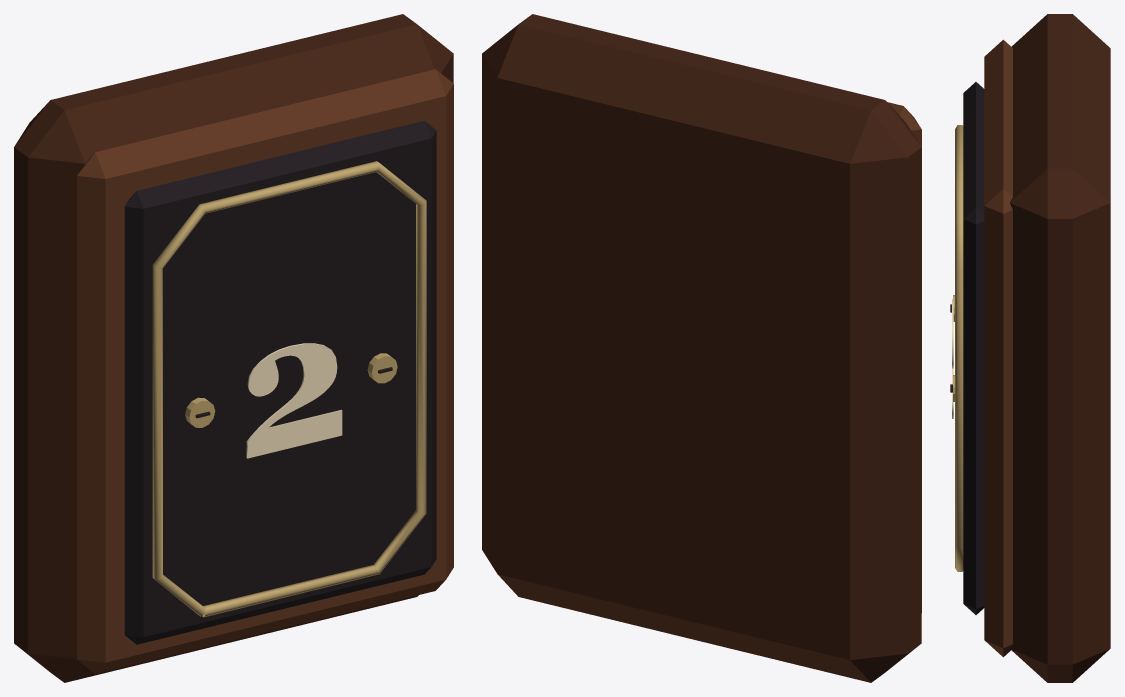
Rendered from BedroomNumber02.glb.
3 renders of one model, left to right at view 1: azimuth 30°, elevation 25°; view 2: azimuth 150°, elevation 25°; view 3: azimuth 270°, elevation 25°, orthographic. The views are drawn at different scales.
Visible parts, largest first — view 1: EnamelFace.008, BevelledOak.008, OakMoulding.008, GoldCartouche.008, Lettering_2, FlushBrassFixing.017, FlushBrassFixing.016; view 2: BevelledOak.008, OakMoulding.008; view 3: BevelledOak.008, OakMoulding.008, EnamelFace.008, GoldCartouche.008.
Boxes of the visible parts, x1,y1,x2,y2 form: EnamelFace.008: (124, 120, 436, 644); BevelledOak.008: (14, 14, 453, 682); OakMoulding.008: (77, 69, 453, 673); GoldCartouche.008: (152, 161, 426, 617); Lettering_2: (246, 343, 342, 458); FlushBrassFixing.017: (367, 353, 397, 383); FlushBrassFixing.016: (185, 397, 215, 427); BevelledOak.008: (482, 14, 921, 682); OakMoulding.008: (887, 102, 921, 612); BevelledOak.008: (1010, 14, 1110, 682); OakMoulding.008: (984, 39, 1012, 657); EnamelFace.008: (963, 82, 984, 614); GoldCartouche.008: (955, 125, 963, 571).
Size of the model in its own units: 1.05 by 1.35 by 0.381.
